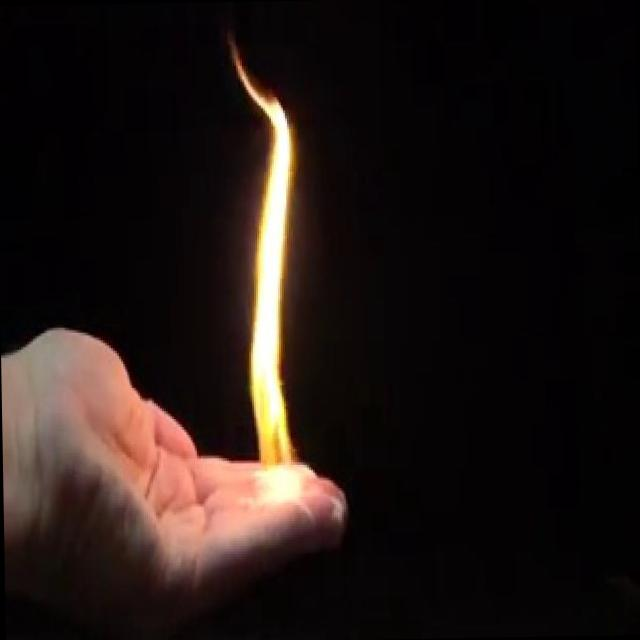Fire: (225, 41, 316, 511)
